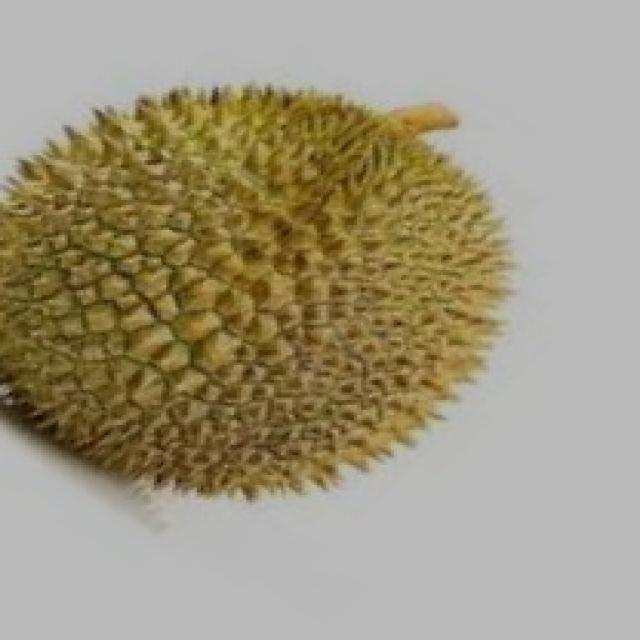fruit: (0, 202, 388, 560)
